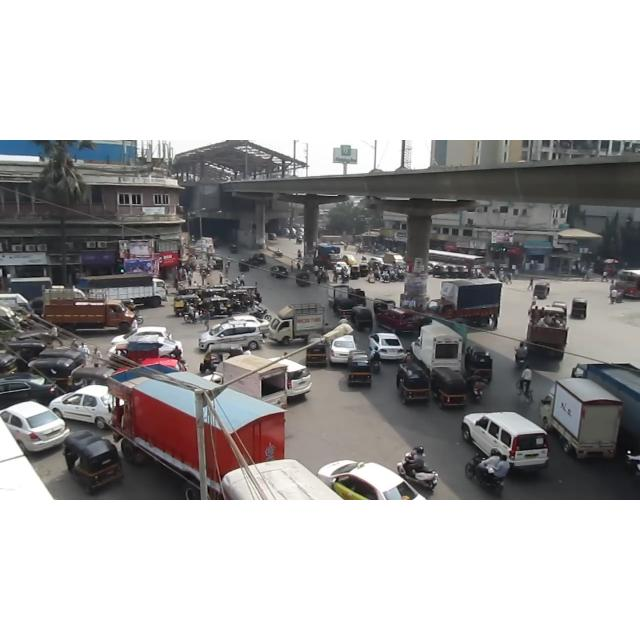auto: (65, 437, 129, 495), (428, 361, 474, 409), (395, 361, 436, 411), (348, 351, 375, 391), (470, 345, 498, 383), (302, 336, 332, 369), (352, 306, 378, 331), (532, 279, 557, 299), (573, 299, 590, 321)
car: (461, 411, 549, 471), (318, 460, 426, 500), (0, 401, 70, 453), (49, 385, 111, 429), (0, 373, 60, 409), (198, 321, 264, 351), (270, 356, 314, 396), (108, 334, 184, 356), (110, 326, 172, 346), (369, 332, 405, 360), (226, 315, 270, 333), (329, 335, 357, 363), (270, 265, 290, 279), (334, 261, 350, 273), (267, 233, 277, 241)
truck: (107, 365, 285, 499), (539, 378, 623, 458), (571, 364, 640, 452), (41, 289, 135, 333), (218, 357, 290, 411), (425, 279, 503, 327), (77, 273, 167, 307), (412, 321, 464, 373), (268, 303, 326, 345), (526, 306, 568, 360), (41, 277, 91, 301), (8, 277, 52, 301), (313, 243, 341, 269), (327, 284, 349, 308), (382, 252, 406, 270)
